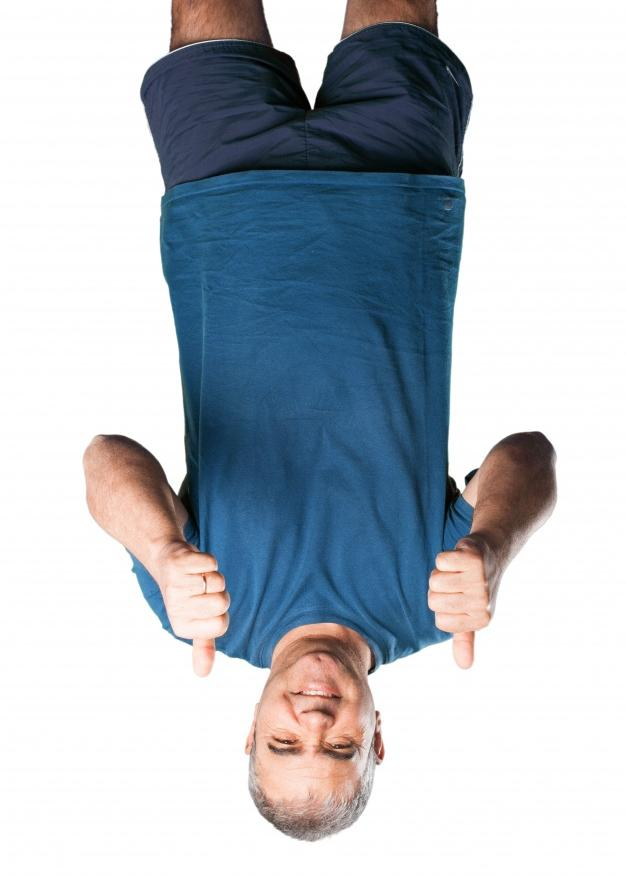thumbsdown: (163, 550, 231, 681), (426, 551, 493, 671)
